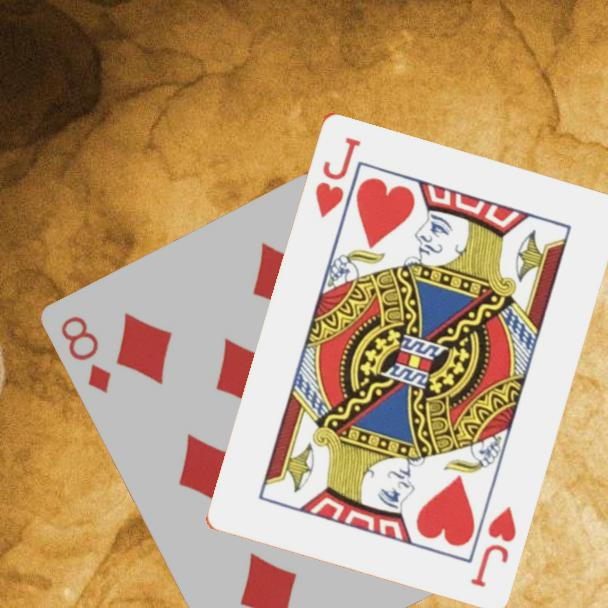d08: (58, 312, 115, 397)
h11: (311, 133, 364, 221), (466, 502, 519, 590)
